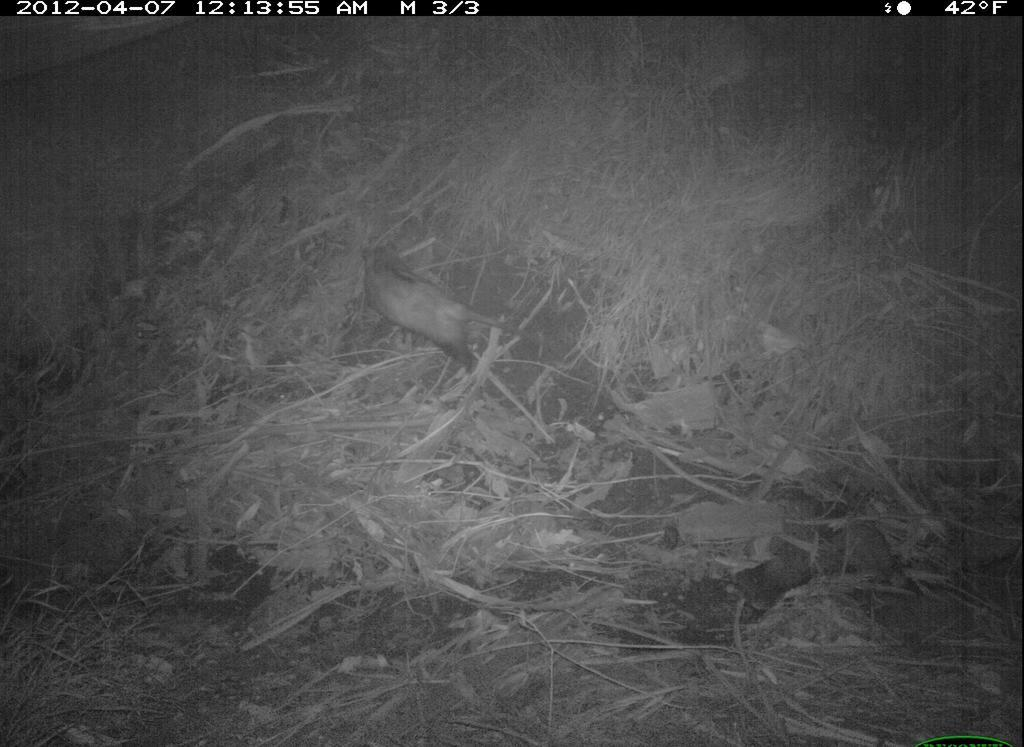opossum: (333, 232, 596, 422)
